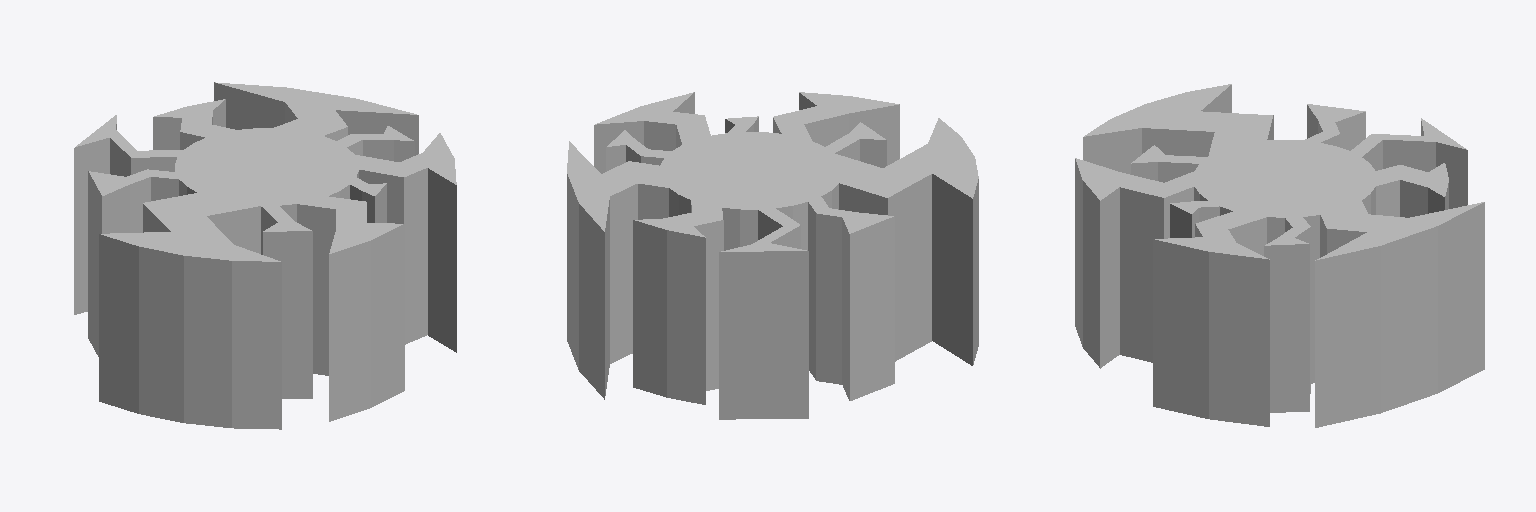
File: dark_bramble.obj
3 views of the same model, side by side, from view 1: azimuth 30°, elevation 25°; view 2: azimuth 150°, elevation 25°; view 3: azimuth 270°, elevation 25° (orthographic).
Parts seen in each view (by area): view 1: Cylinder.001_Cylinder.004; view 2: Cylinder.001_Cylinder.004; view 3: Cylinder.001_Cylinder.004.
Part boxes in pixels (x1,y1,x2,y2): Cylinder.001_Cylinder.004: (74, 82, 456, 429); Cylinder.001_Cylinder.004: (567, 92, 978, 419); Cylinder.001_Cylinder.004: (1075, 84, 1484, 427).
Bounding box in the file's own units: 2.26 × 1 × 2.22.